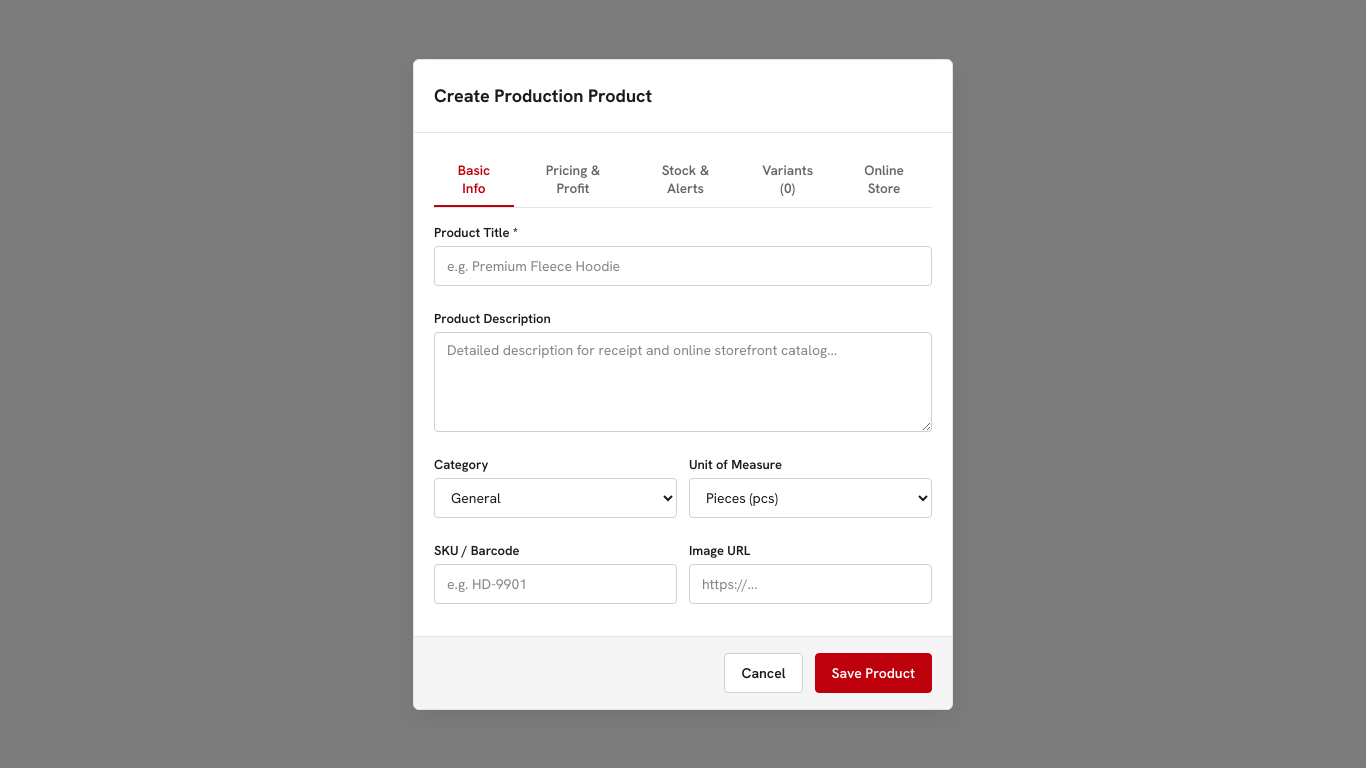
Test: product modal preserves its form and suppresses late completion after replacement
Step 1. Type "Old merchant product" into the field labelled "Product Title *" → (683, 266), box [434,246,932,286]
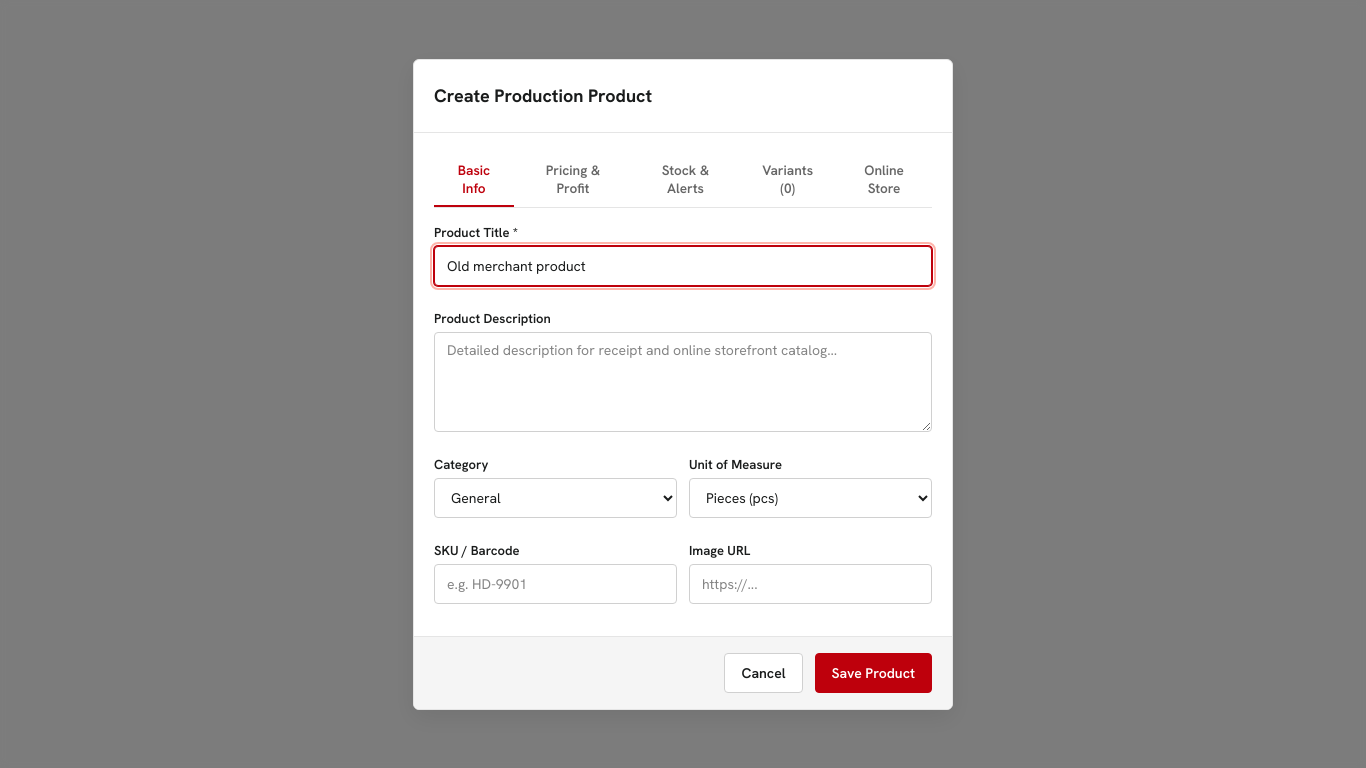
Step 2. Click the button "Pricing & Profit" → (573, 180), box [518,152,628,206]
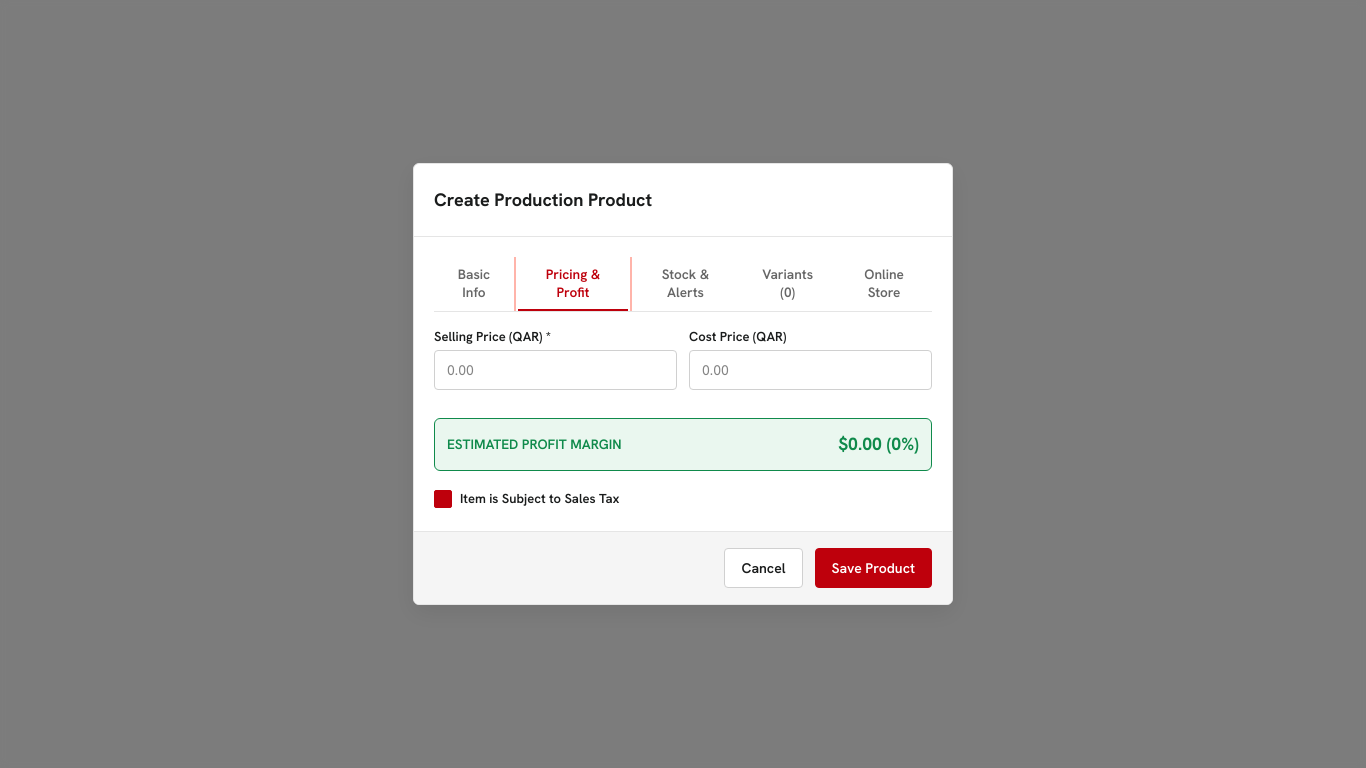
Step 3. Type "15" into the number field labelled "Selling Price (QAR) *" → (556, 370), box [434,350,677,390]
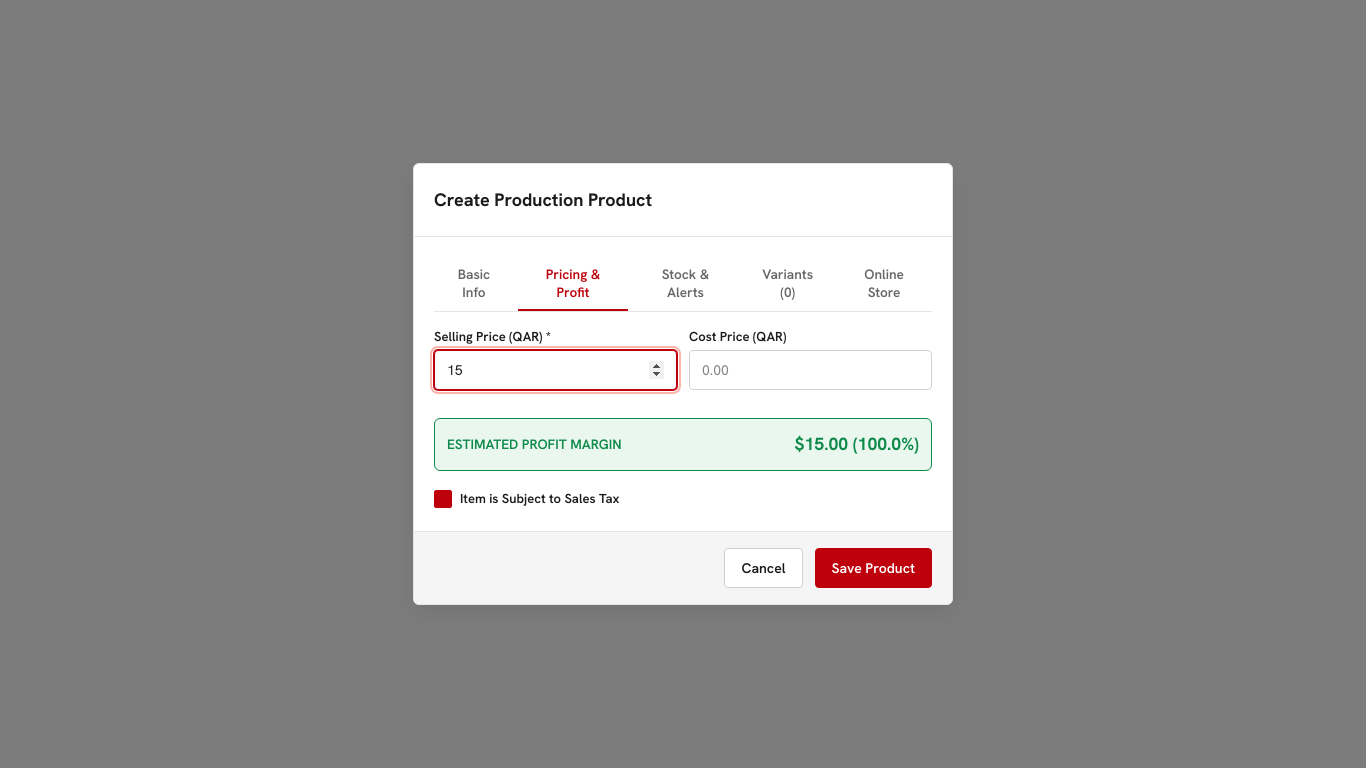
Step 4. Click the button "Save Product" → (873, 568), box [814,548,932,588]
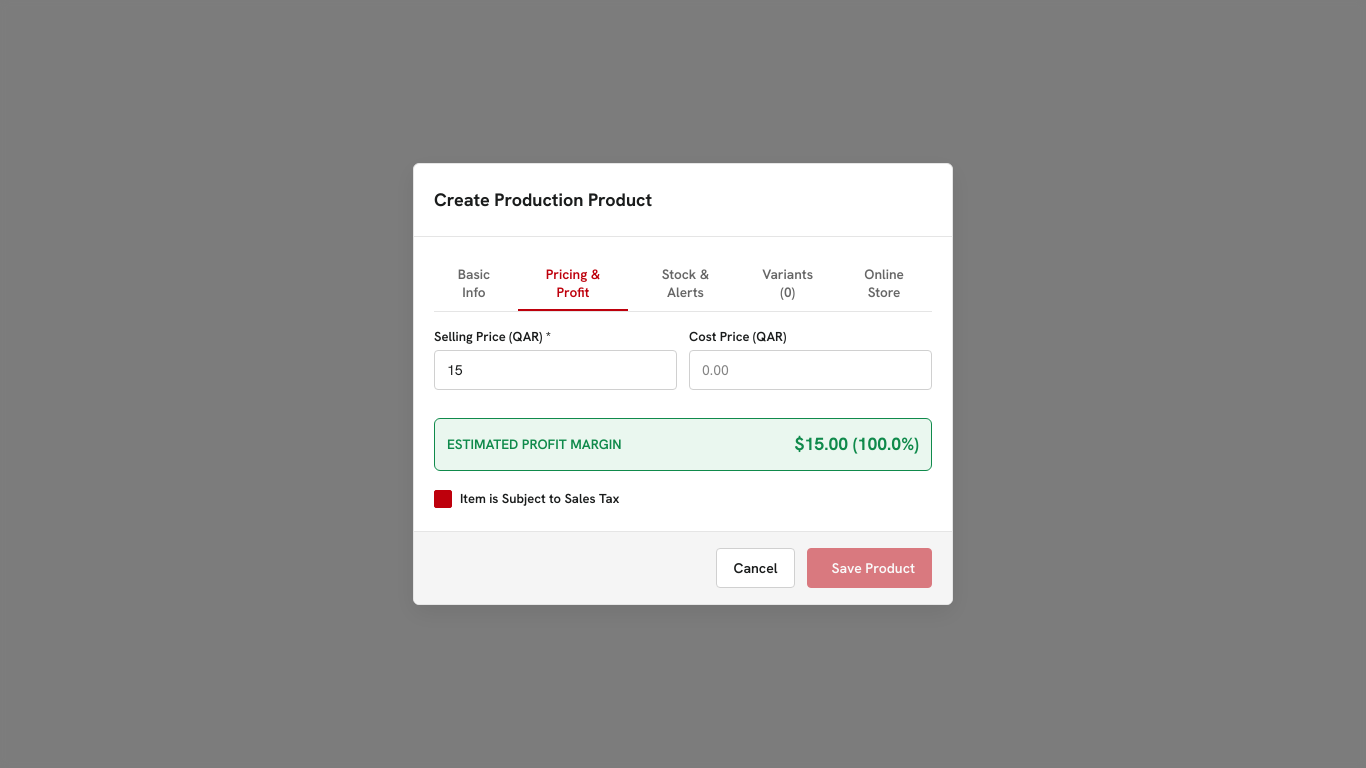
Check: the button "Save Product" is disabled, box [806,548,932,588]
Step 5. Click the button "Basic Info" → (474, 284), box [434,257,514,311]
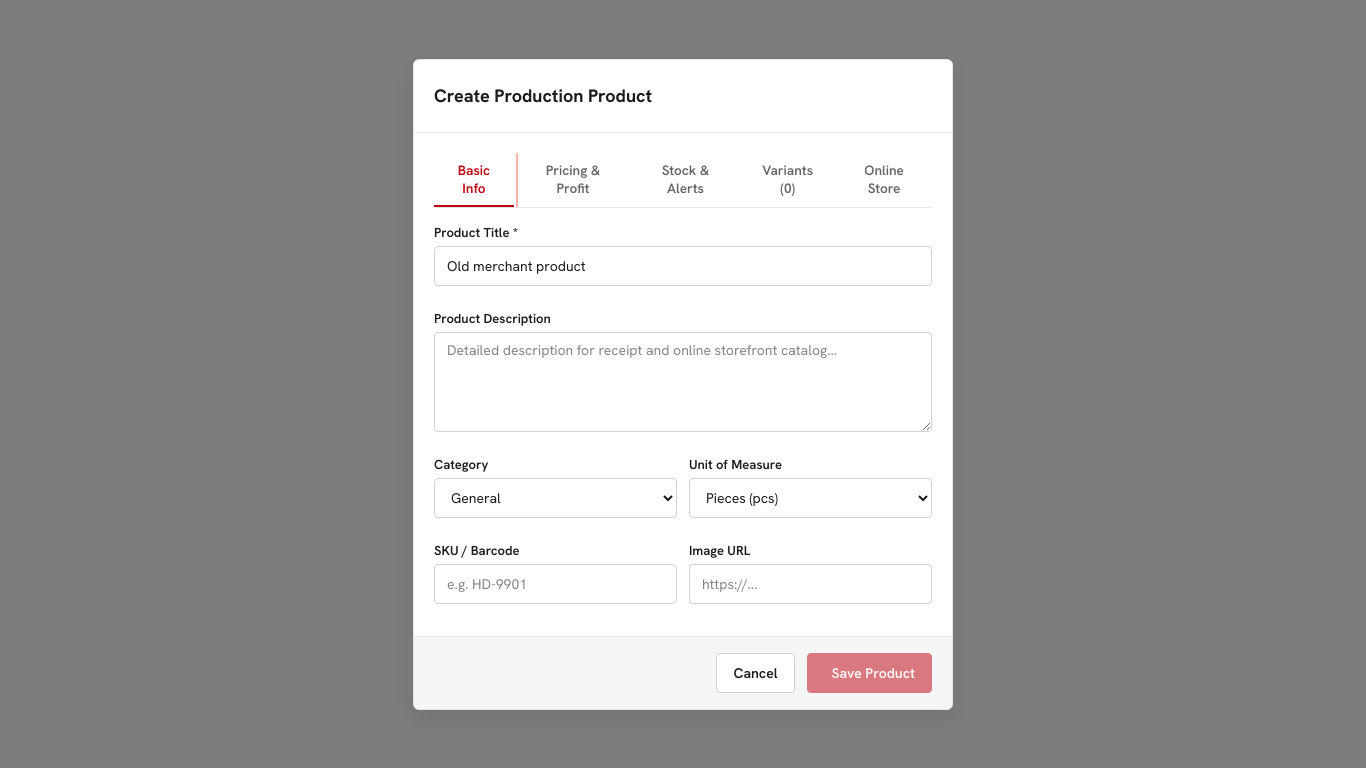
Check: the field labelled "Product Title *" holds "Old merchant product", box [434,246,932,286]
